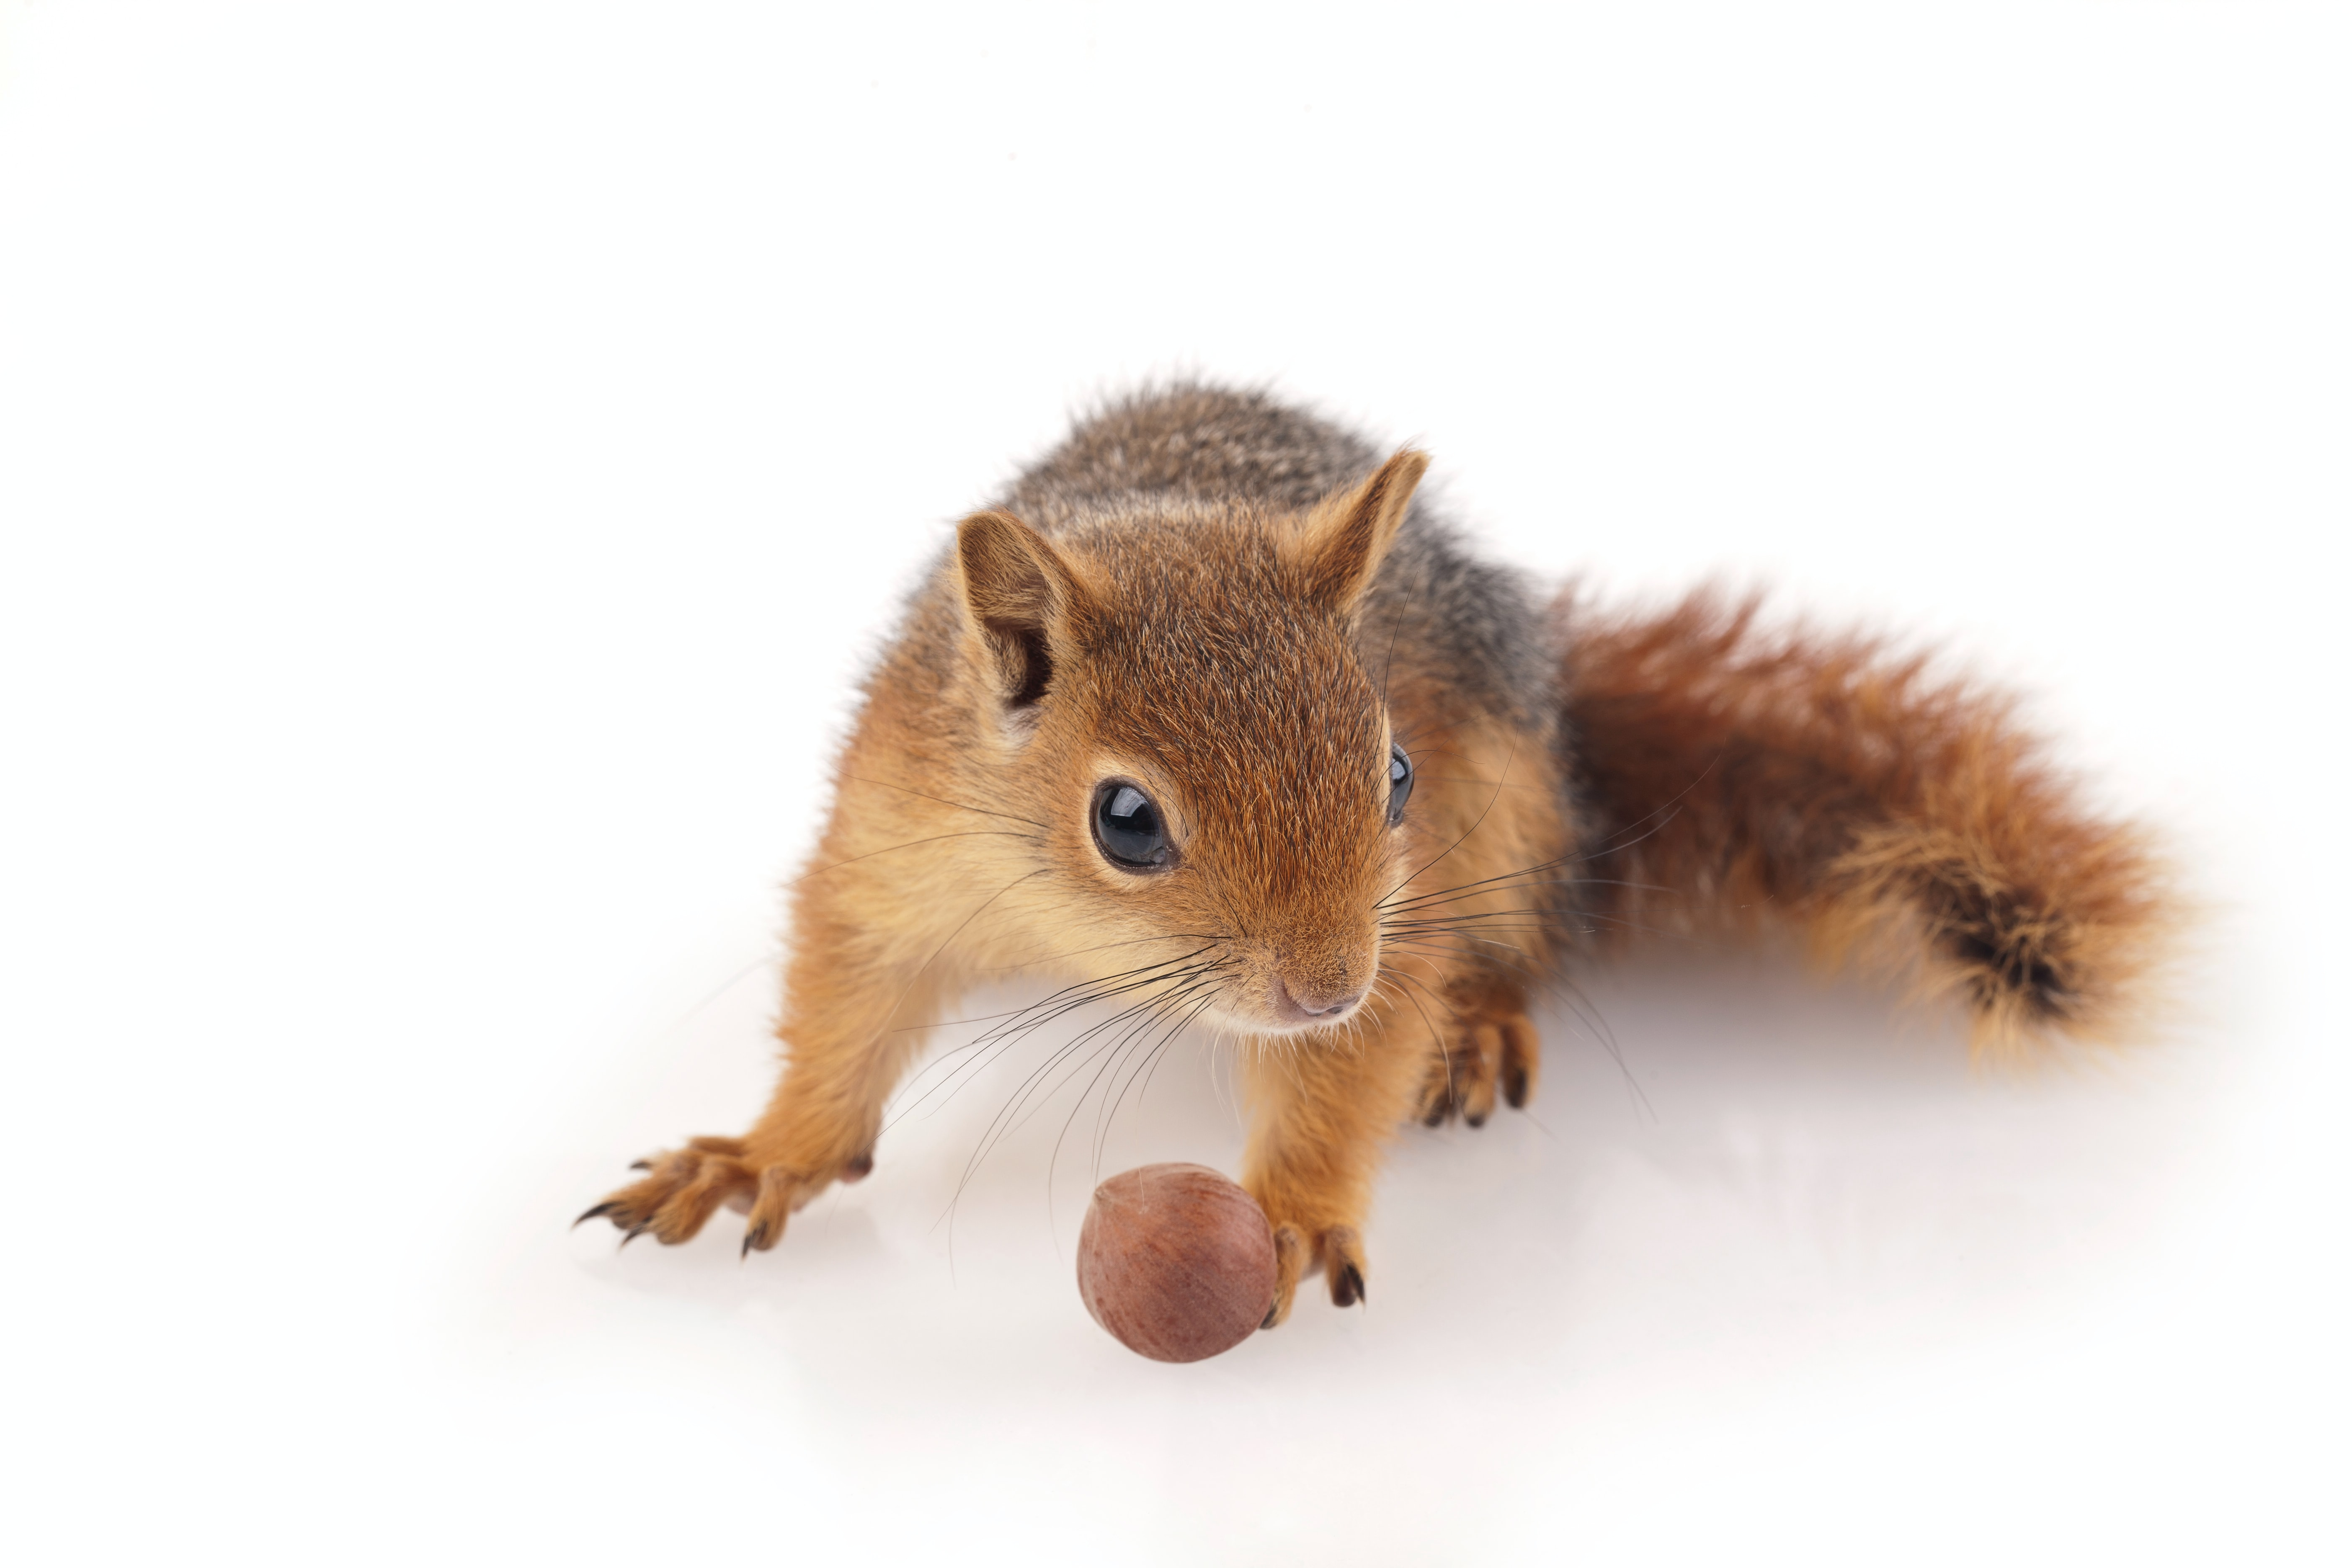squirrel: (574, 361, 2179, 1320)
